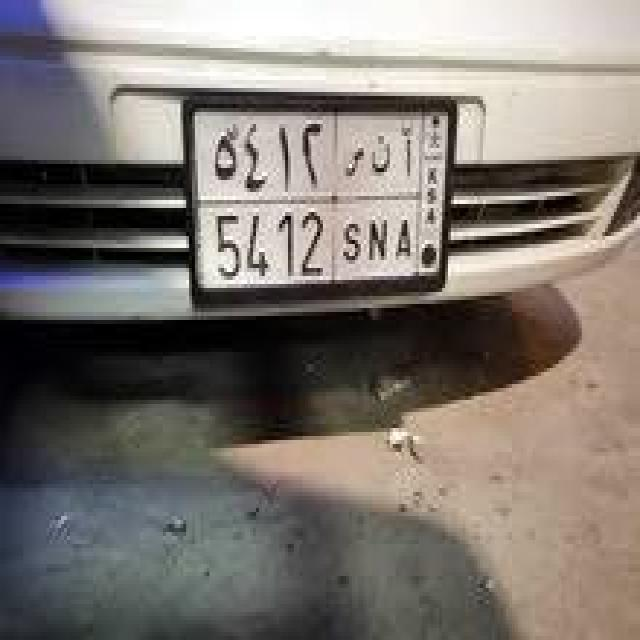license_plate: (160, 68, 465, 324)
